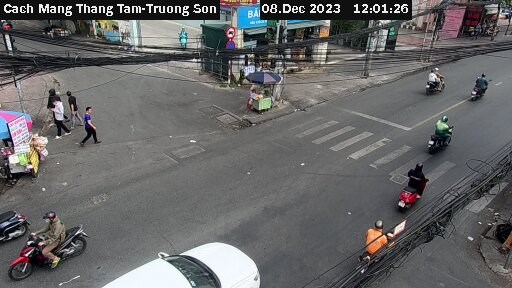car: (103, 224, 276, 288)
motorbike: (9, 209, 91, 275), (354, 215, 403, 263), (417, 114, 467, 158), (384, 165, 437, 206), (1, 194, 30, 245), (460, 64, 493, 99), (419, 59, 454, 91)
